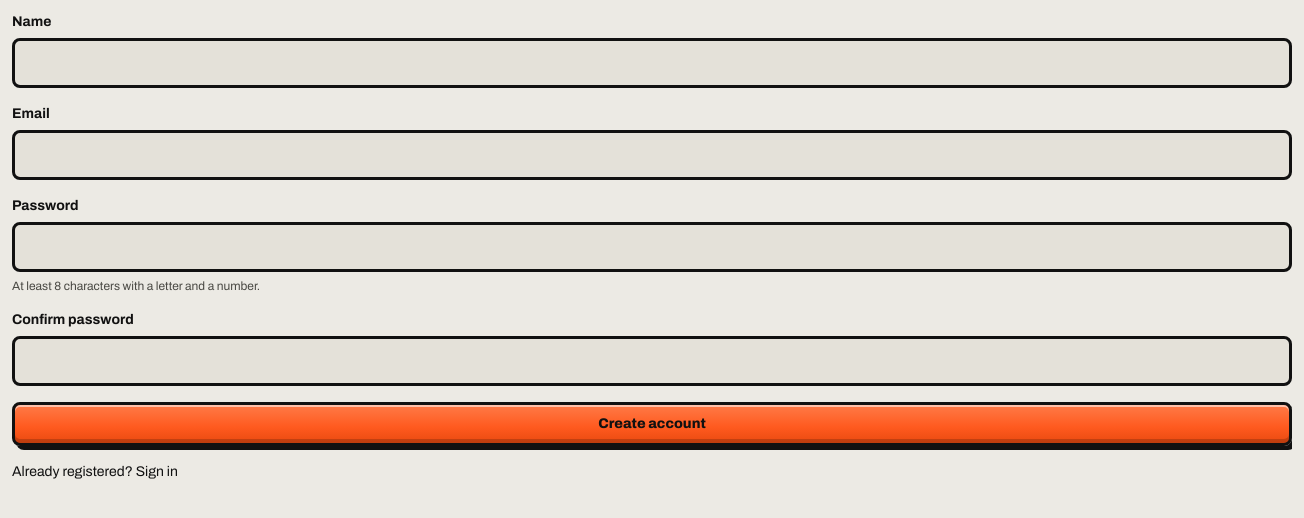
Test case: RegisterForm › validates a field when it loses focus
The image size is (1304, 518).
Type "not-an-email" into the field labelled "Email" at (652, 155), box x1=12 y1=130 x2=1292 y2=180
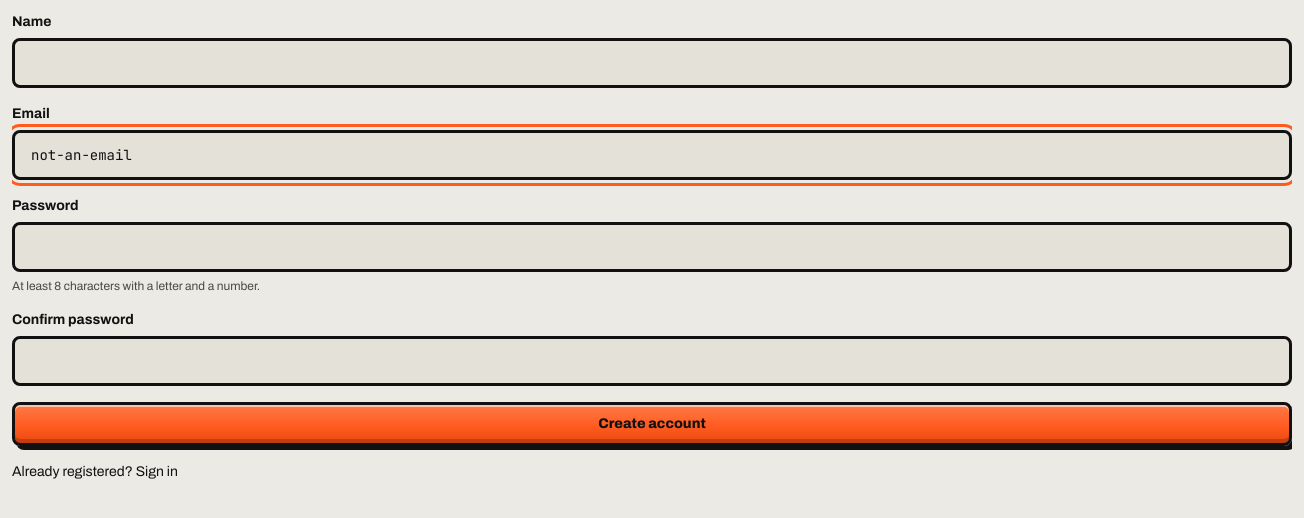
Press Tab
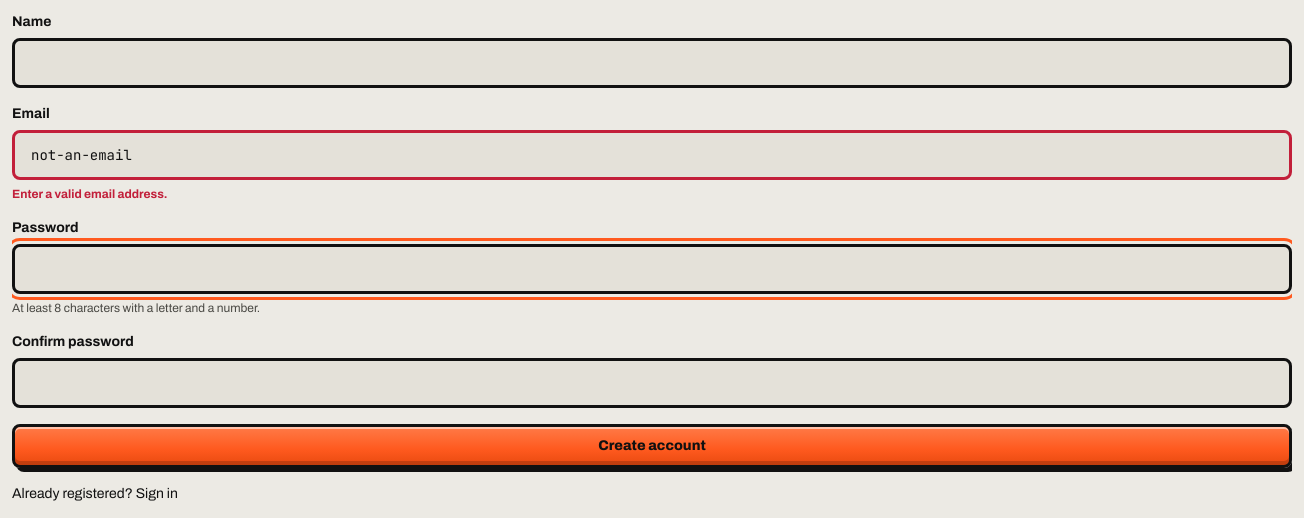
Now the text "Enter a valid email address." is shown, box x1=12 y1=187 x2=168 y2=201
